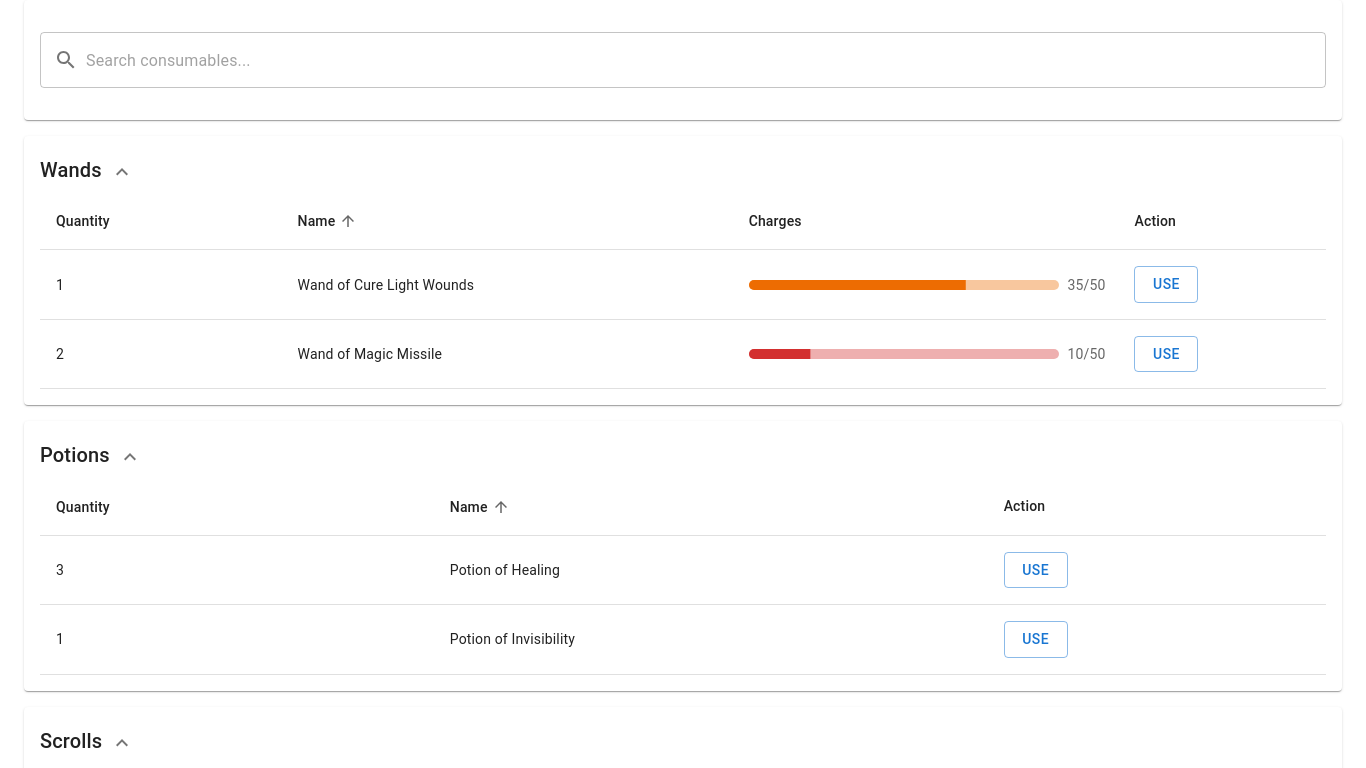
Test case: Consumables › sorts wands by a column when its header is clicked
expect the text "Wand of Cure Light Wounds" is shown: met, box [282, 250, 733, 319]
expect the elements "Wand of" read "Wand of Cure Light Wounds", "Wand of Magic Missile", in this order: met, box [282, 250, 733, 319]; [282, 319, 733, 389]
// Sorting by Charges ascending puts the 10-charge wand before the 35-charge wand
Click the button "Charges". click: click(775, 221)
box: [749, 213, 802, 229]
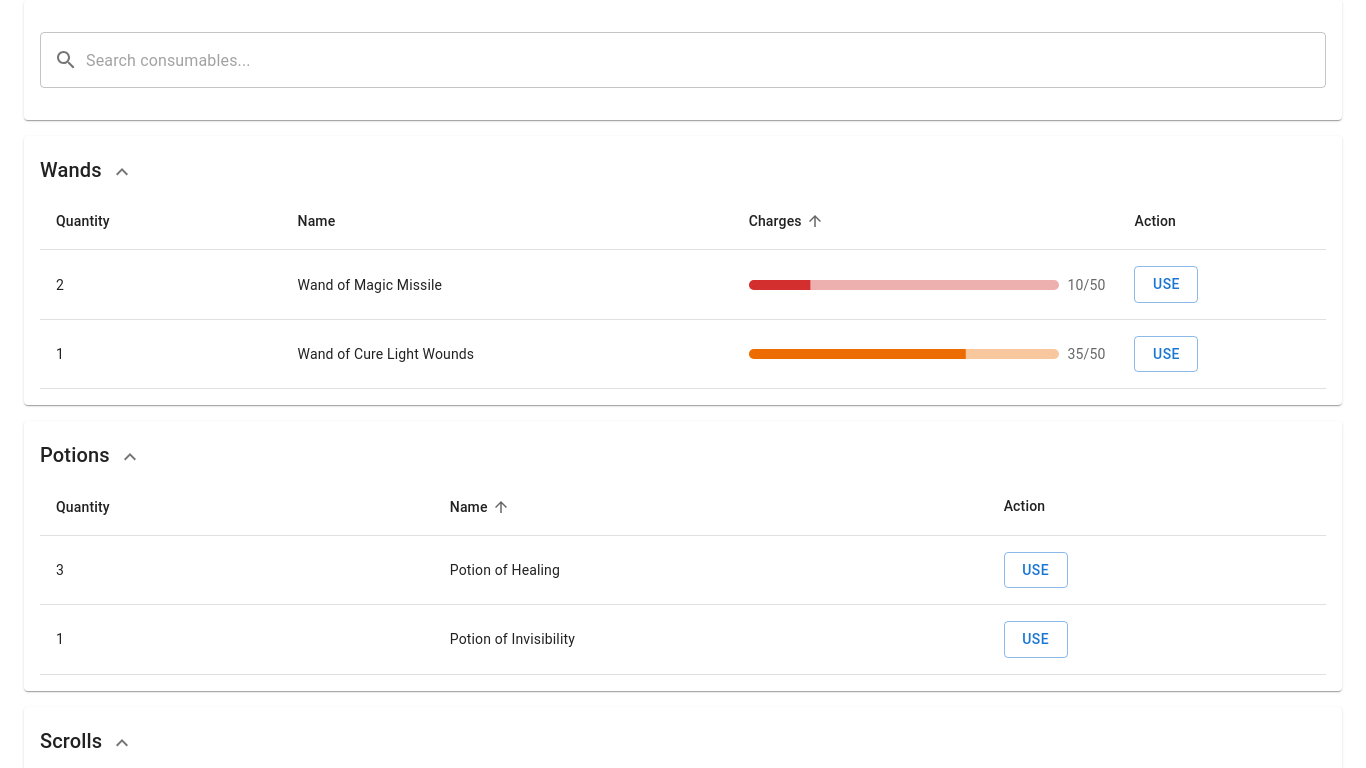
expect the elements "Wand of" read "Wand of Magic Missile", "Wand of Cure Light Wounds", in this order: met, box [282, 250, 733, 319]; [282, 319, 733, 389]
